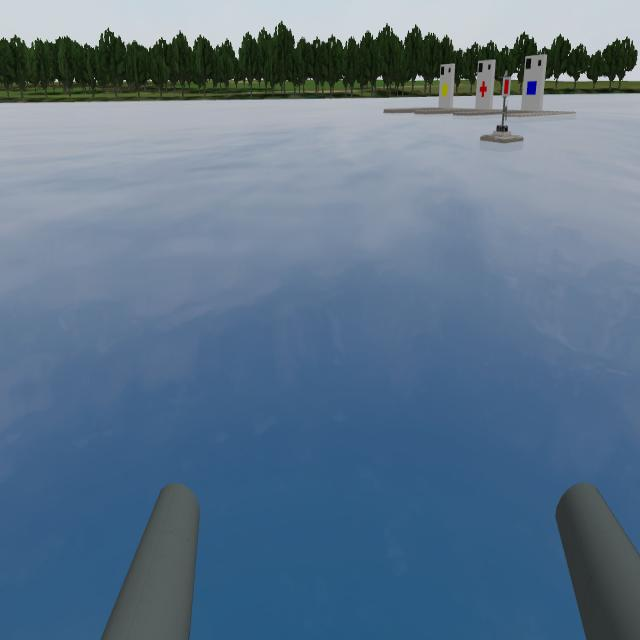red_pole: (500, 68, 515, 113)
